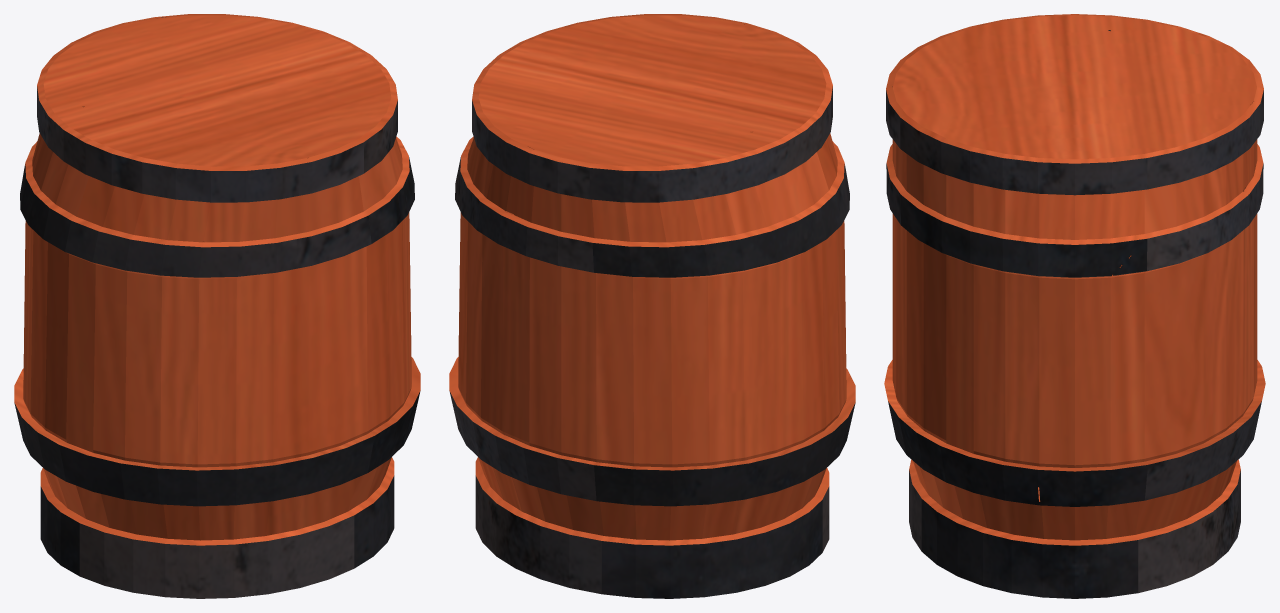
The model's file is barrel(not-smooth).fbx.
3 views of the same model, side by side, from view 1: azimuth 30°, elevation 25°; view 2: azimuth 150°, elevation 25°; view 3: azimuth 270°, elevation 25° (orthographic).
Visible parts, largest first — view 1: Circle; view 2: Circle; view 3: Circle.
Boxes of the visible parts, x1=… form: Circle: x1=14, y1=14, x2=420, y2=598; Circle: x1=449, y1=14, x2=855, y2=598; Circle: x1=884, y1=14, x2=1265, y2=598.
Size of the model in its own units: 330 by 383 by 303.
Materials: 2 (2 with a texture image).
